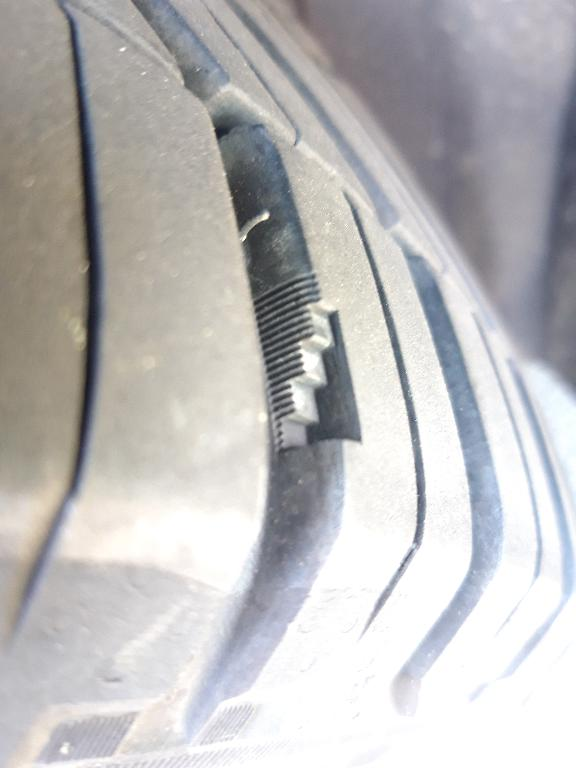temoin:90: (246, 264, 371, 461)
